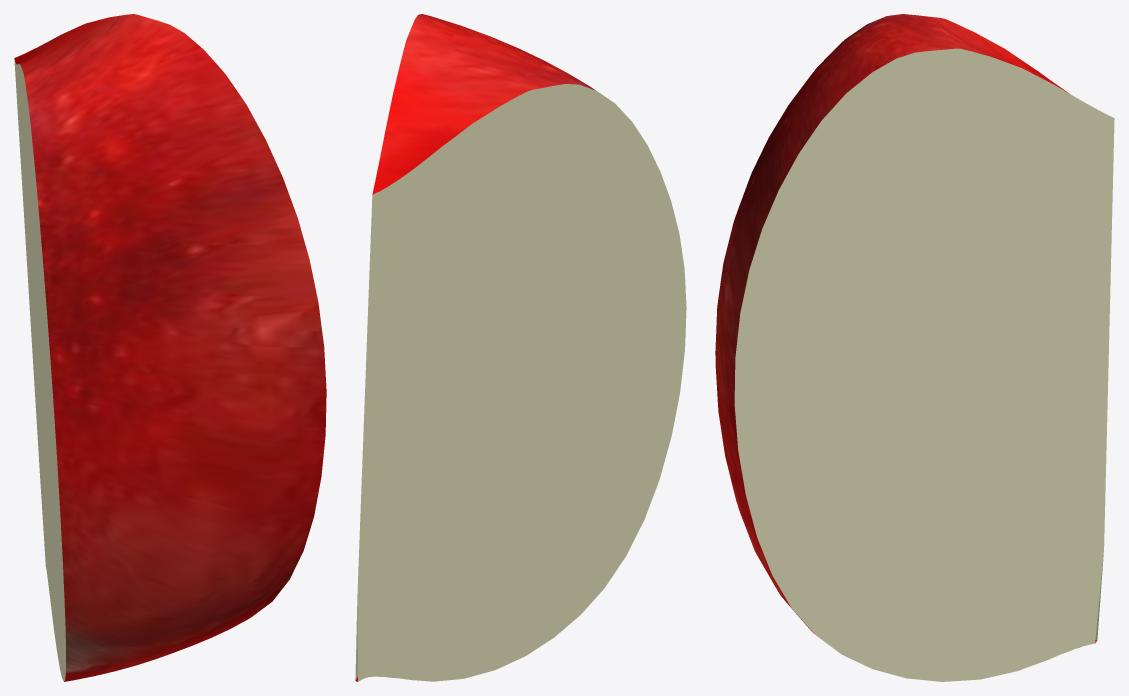
Rendered from apple_model_2.gltf.
3 renders of one model, left to right at view 1: azimuth 30°, elevation 25°; view 2: azimuth 150°, elevation 25°; view 3: azimuth 270°, elevation 25°, orthographic. The views are drawn at different scales.
Parts seen in each view (by area): view 1: apple.027; view 2: apple.027; view 3: apple.027.
Boxes of the visible parts, <box> form: apple.027: <box>14,14,326,681</box>; apple.027: <box>355,14,686,681</box>; apple.027: <box>715,14,1114,681</box>.
Bounding box in the file's own units: 0.7459 × 1.7 × 0.972.
2 materials, 1 textured.
